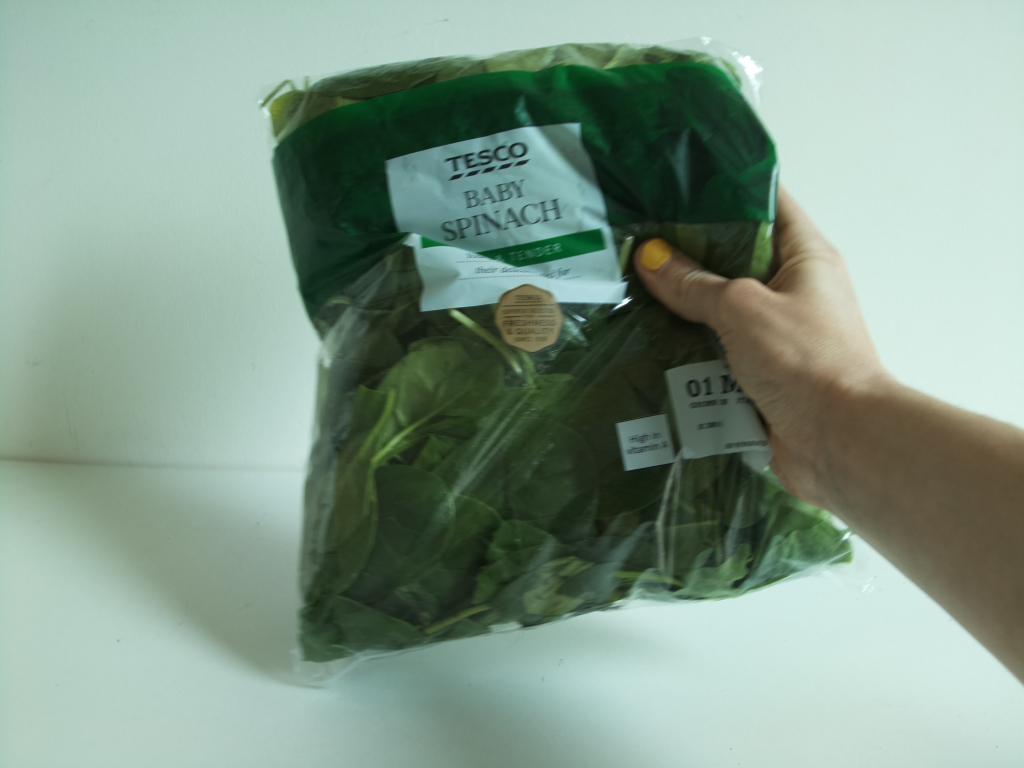salad: (266, 47, 856, 668)
